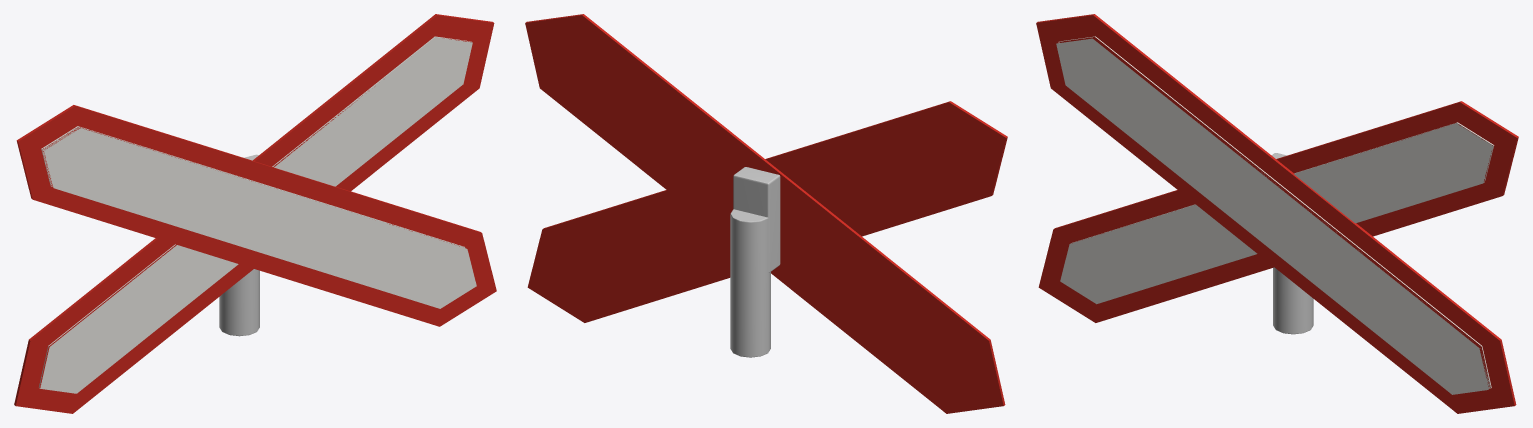
Rendered from rail.crossing.saltire_top.glb.
3 renders of one model, left to right at view 1: azimuth 30°, elevation 25°; view 2: azimuth 150°, elevation 25°; view 3: azimuth 330°, elevation 25°, orthographic.
Parts seen in each view (by area): view 1: main__paint_eee, main__paint_c22, main__galv_ccc; view 2: main__paint_c22, main__galv_ccc; view 3: main__paint_eee, main__paint_c22, main__galv_ccc.
Boxes of the visible parts, x1=… form: main__paint_eee: x1=38, y1=36, x2=476, y2=393; main__paint_c22: x1=14, y1=14, x2=496, y2=413; main__galv_ccc: x1=219, y1=154, x2=259, y2=336; main__paint_c22: x1=525, y1=14, x2=1007, y2=413; main__galv_ccc: x1=730, y1=167, x2=780, y2=357; main__paint_eee: x1=1056, y1=36, x2=1494, y2=394; main__paint_c22: x1=1036, y1=14, x2=1518, y2=413; main__galv_ccc: x1=1272, y1=153, x2=1313, y2=334.
Bounding box in the file's own units: 1.32 × 0.8193 × 0.149.
